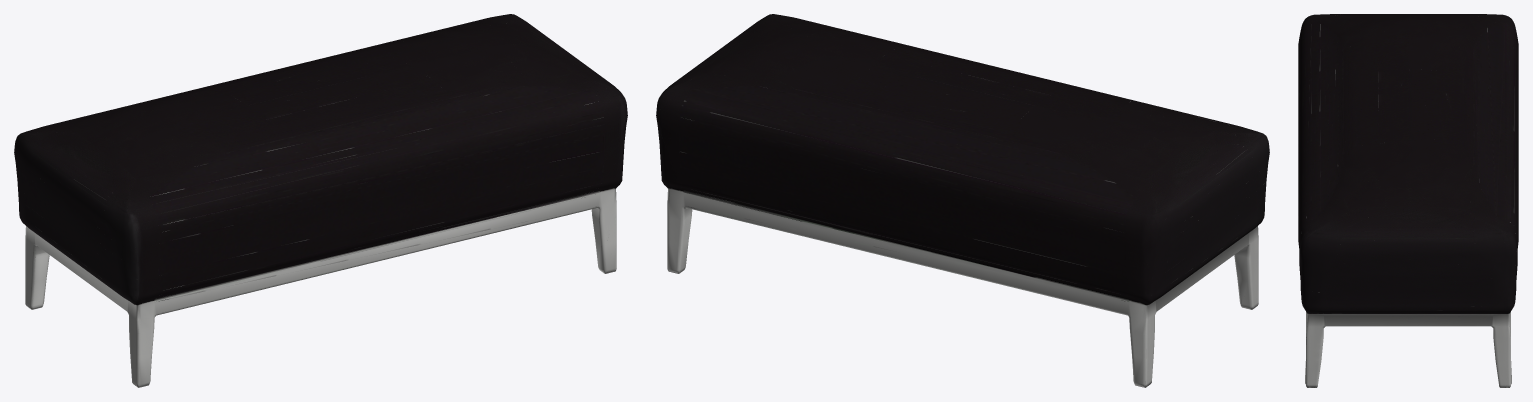
The model's file is SIGNATURE_Bench_Blac_0403043218_texture.glb.
The picture shows the model from 3 angles, left to right: view 1: azimuth 30°, elevation 25°; view 2: azimuth 150°, elevation 25°; view 3: azimuth 270°, elevation 25°; orthographic projection. The views are drawn at different scales.
Visible parts, largest first — view 1: Mesh_0.003; view 2: Mesh_0.003; view 3: Mesh_0.003.
Part boxes in pixels (bbox=[...]): Mesh_0.003: bbox=[14, 14, 627, 387]; Mesh_0.003: bbox=[656, 14, 1269, 387]; Mesh_0.003: bbox=[1298, 14, 1518, 387].
Size of the model in its own units: 1.21 by 0.4572 by 0.5022.
1 material, 1 textured.
